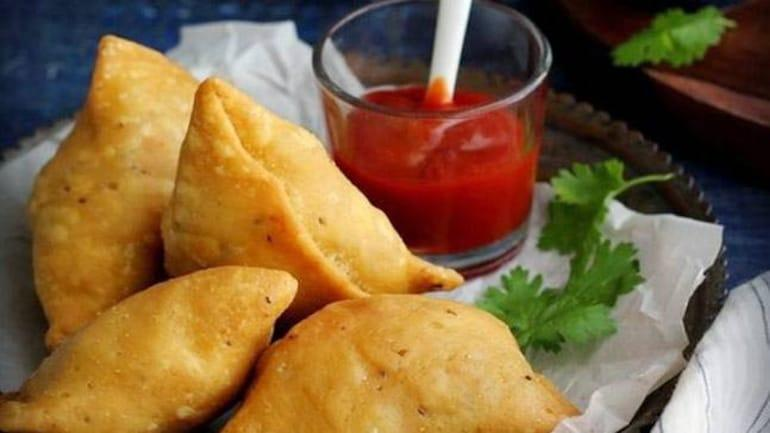samosa: (162, 78, 463, 327), (29, 36, 199, 349), (0, 266, 296, 432), (223, 295, 578, 431)
